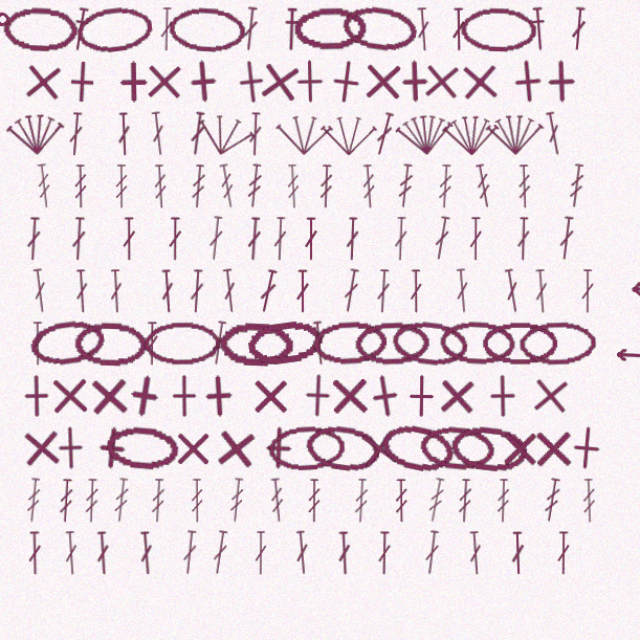chain: (374, 426, 452, 481), (247, 328, 324, 379), (338, 28, 414, 79), (40, 328, 116, 379), (303, 428, 379, 479), (442, 429, 519, 479), (85, 29, 161, 79), (386, 329, 462, 379), (113, 430, 187, 478), (413, 430, 487, 478), (174, 31, 250, 77), (269, 431, 345, 476), (433, 331, 507, 376), (311, 331, 384, 376), (509, 332, 583, 376), (16, 31, 88, 76), (453, 32, 526, 76), (84, 332, 156, 376), (222, 332, 294, 376), (352, 332, 424, 376), (151, 333, 224, 375), (294, 32, 365, 75), (474, 333, 546, 375)
double: (369, 132, 393, 176), (259, 282, 281, 326), (532, 132, 553, 175), (426, 232, 446, 275), (339, 282, 359, 325), (493, 282, 513, 325), (213, 332, 233, 375), (214, 532, 234, 575), (193, 132, 212, 175), (417, 532, 436, 575), (244, 32, 262, 75), (156, 132, 174, 175), (211, 232, 229, 275), (546, 232, 564, 275), (43, 282, 61, 325), (224, 282, 242, 325), (186, 532, 204, 575), (558, 32, 575, 75), (447, 282, 464, 325), (310, 332, 327, 375), (294, 532, 311, 575), (78, 133, 95, 175), (248, 233, 265, 275), (145, 533, 162, 575), (410, 33, 426, 75), (38, 233, 54, 275), (81, 233, 97, 275), (84, 283, 100, 325), (117, 283, 133, 325), (166, 283, 182, 325), (194, 283, 210, 325), (372, 283, 388, 325), (523, 283, 539, 325), (74, 533, 90, 575), (104, 533, 120, 575), (460, 533, 476, 575), (125, 133, 140, 175), (250, 133, 265, 175), (274, 233, 289, 275), (343, 233, 358, 275), (389, 233, 404, 275), (506, 233, 521, 275), (335, 533, 350, 575), (501, 533, 516, 575), (166, 33, 180, 75), (445, 33, 459, 75), (130, 233, 144, 275), (174, 233, 188, 275), (304, 233, 318, 275), (461, 233, 475, 275), (296, 283, 310, 325), (404, 283, 418, 325), (568, 283, 582, 325), (43, 333, 57, 375), (152, 333, 166, 375), (40, 533, 54, 575), (256, 533, 270, 575), (374, 533, 388, 575), (545, 533, 559, 575)
fan: (197, 127, 261, 181), (390, 130, 449, 177), (19, 131, 77, 176), (435, 132, 492, 176), (276, 132, 333, 175), (477, 132, 534, 175), (319, 133, 375, 175)
half_double: (80, 32, 102, 76), (519, 32, 538, 75), (284, 33, 301, 75)
noise: (614, 292, 640, 309), (600, 359, 628, 371), (8, 36, 25, 53)
single: (257, 80, 305, 128), (128, 380, 176, 428), (357, 380, 405, 428), (352, 430, 400, 478), (32, 81, 78, 127), (231, 81, 277, 127), (321, 81, 367, 127), (216, 431, 262, 477), (185, 81, 230, 126), (413, 81, 458, 126), (495, 81, 540, 126), (517, 381, 562, 426), (31, 431, 76, 476), (98, 431, 143, 476), (551, 431, 596, 476), (70, 82, 114, 126), (450, 82, 494, 126), (96, 382, 140, 426), (201, 382, 245, 426), (428, 382, 472, 426), (149, 82, 192, 125), (288, 82, 331, 125), (358, 82, 401, 125), (388, 82, 431, 125), (528, 82, 571, 125), (59, 382, 102, 425), (296, 382, 339, 425), (326, 382, 369, 425), (60, 432, 103, 475), (258, 432, 301, 475), (120, 83, 162, 125), (28, 383, 70, 425), (169, 383, 211, 425), (251, 383, 293, 425), (395, 383, 437, 425), (473, 383, 515, 425), (177, 433, 219, 475), (489, 433, 531, 475), (521, 433, 563, 475)
treble: (465, 182, 486, 225), (420, 482, 441, 525), (221, 182, 241, 225), (531, 482, 551, 525), (555, 182, 574, 225), (47, 182, 65, 225), (248, 182, 266, 225), (392, 182, 410, 225), (37, 482, 55, 525), (121, 482, 139, 525), (231, 482, 249, 525), (270, 482, 287, 525), (195, 183, 212, 225), (159, 183, 175, 225), (286, 183, 302, 225), (358, 183, 374, 225), (431, 183, 447, 225), (69, 483, 85, 525), (157, 483, 173, 525), (351, 483, 367, 525), (450, 483, 466, 525), (318, 183, 333, 225), (507, 183, 522, 225), (94, 483, 109, 525), (487, 483, 502, 525), (569, 483, 584, 525), (84, 183, 98, 225), (123, 183, 137, 225), (195, 483, 209, 525), (307, 483, 321, 525), (390, 483, 404, 525)
